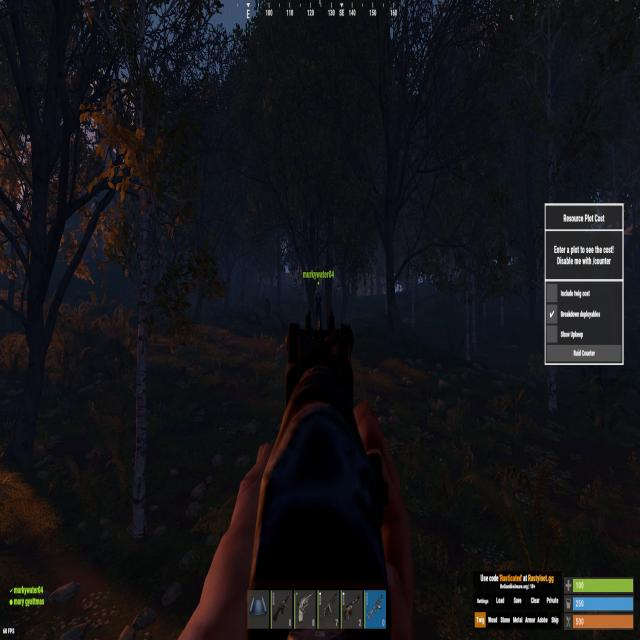Player: (314, 291, 323, 327)
